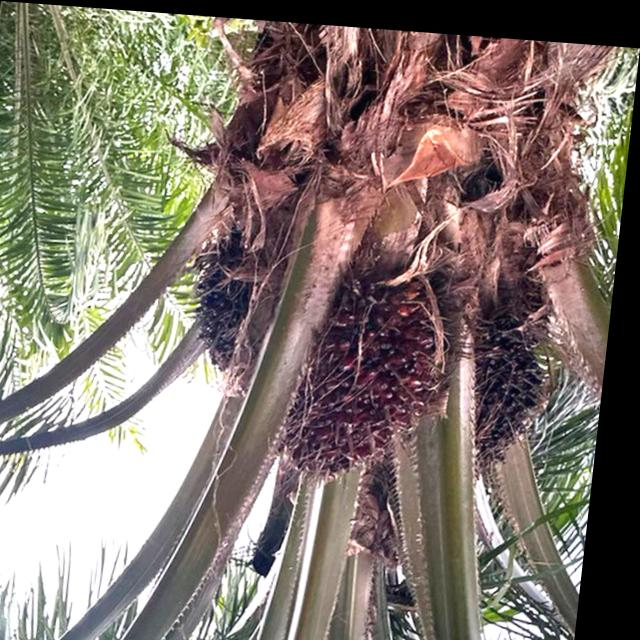ripe: (277, 249, 472, 501)
